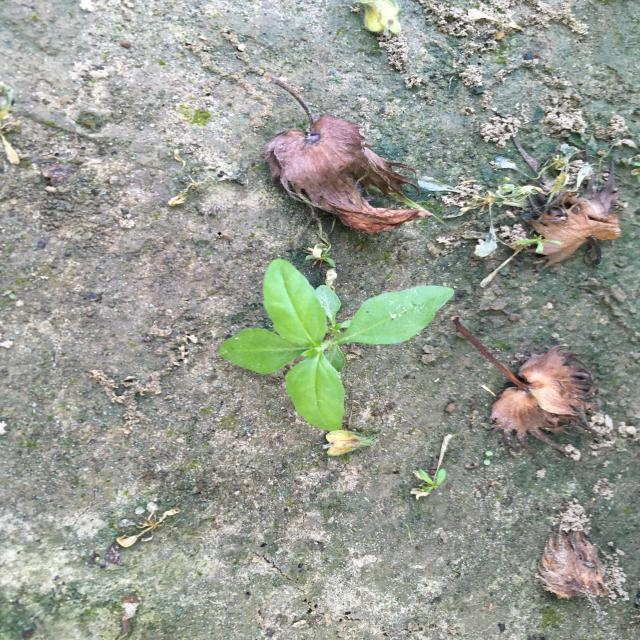Eclipta: (217, 257, 456, 433)
